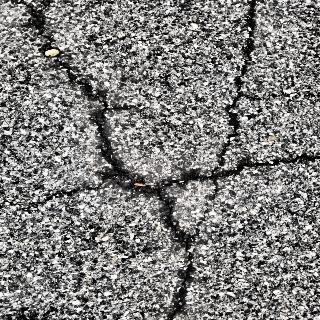crack: (98, 152, 320, 197), (225, 0, 263, 130), (159, 195, 198, 320), (52, 55, 129, 111), (18, 0, 66, 55), (85, 111, 121, 160), (216, 130, 241, 158)
